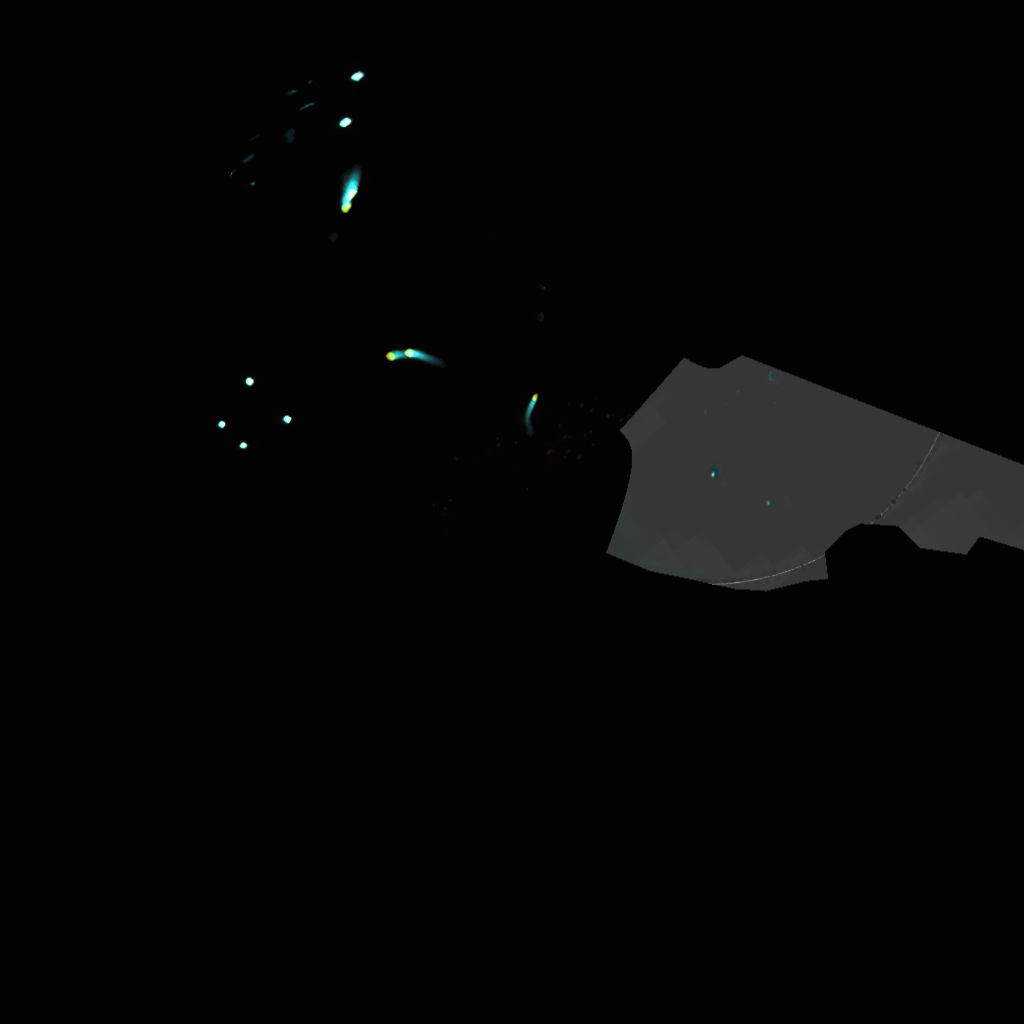B: (406, 344, 432, 367), (524, 393, 540, 422), (347, 173, 361, 201), (384, 348, 406, 362), (342, 189, 353, 215)
